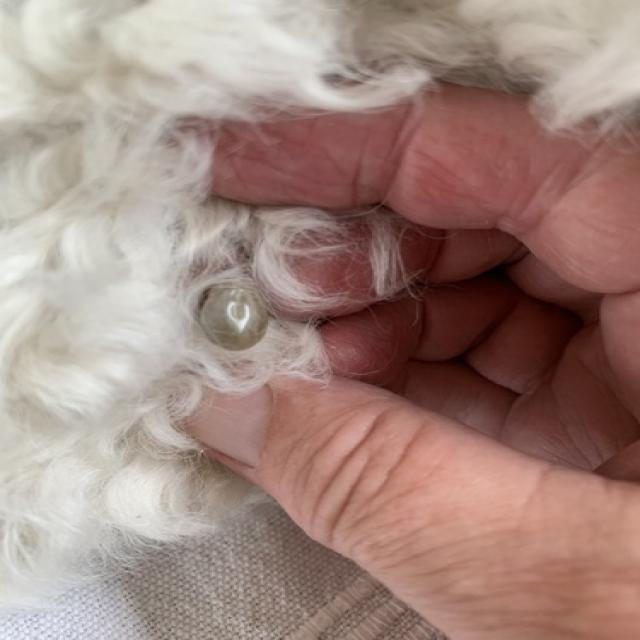Ixodes Ricinus-F-Fed: (186, 274, 271, 353)
